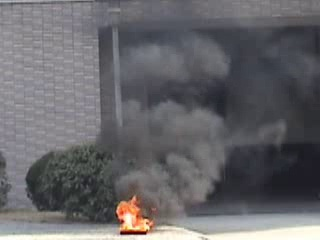smoke: (107, 42, 223, 202)
